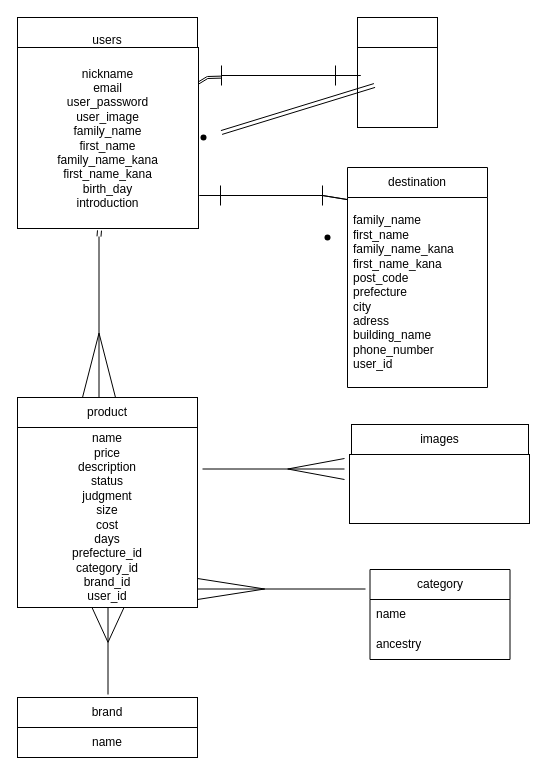
This 547x775 diagram has some shape labels left out. Here are the shapes that lost their labels. From the top down, the centre of each, then its label:
point (397, 32): card
point (397, 87): user_id customer_id card_id
point (439, 489): image product_id purchase_id
